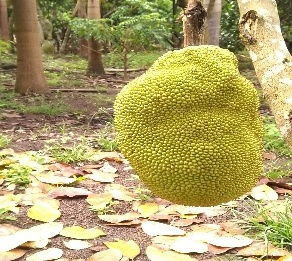Mit: (118, 46, 270, 202)
